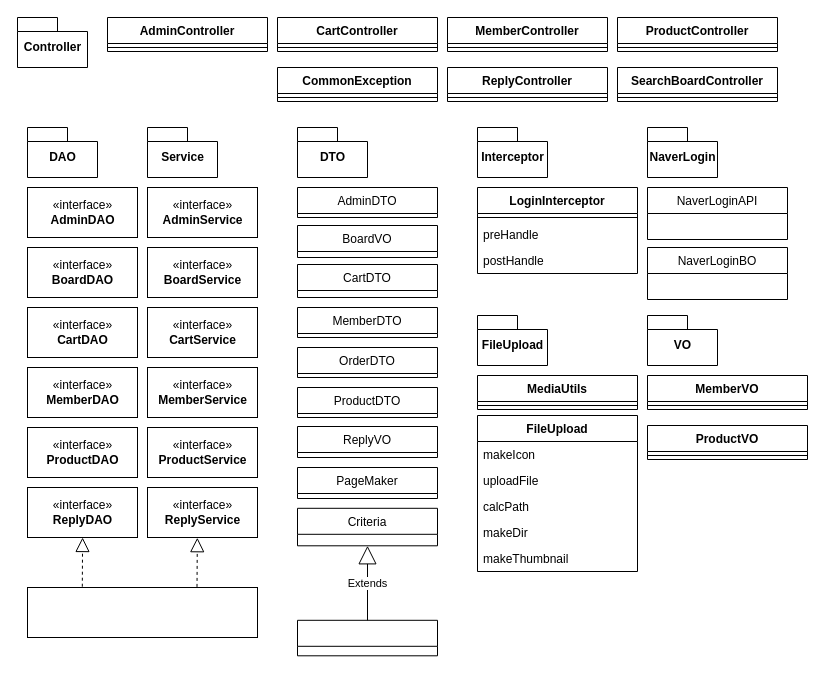
This 825x674 diagram has some shape labels left out. Here are the shapes that lost their labels. From the top down, the centre of each, then its label:
(x=142, y=612): Implementation
(x=367, y=637): SearchCriteria
